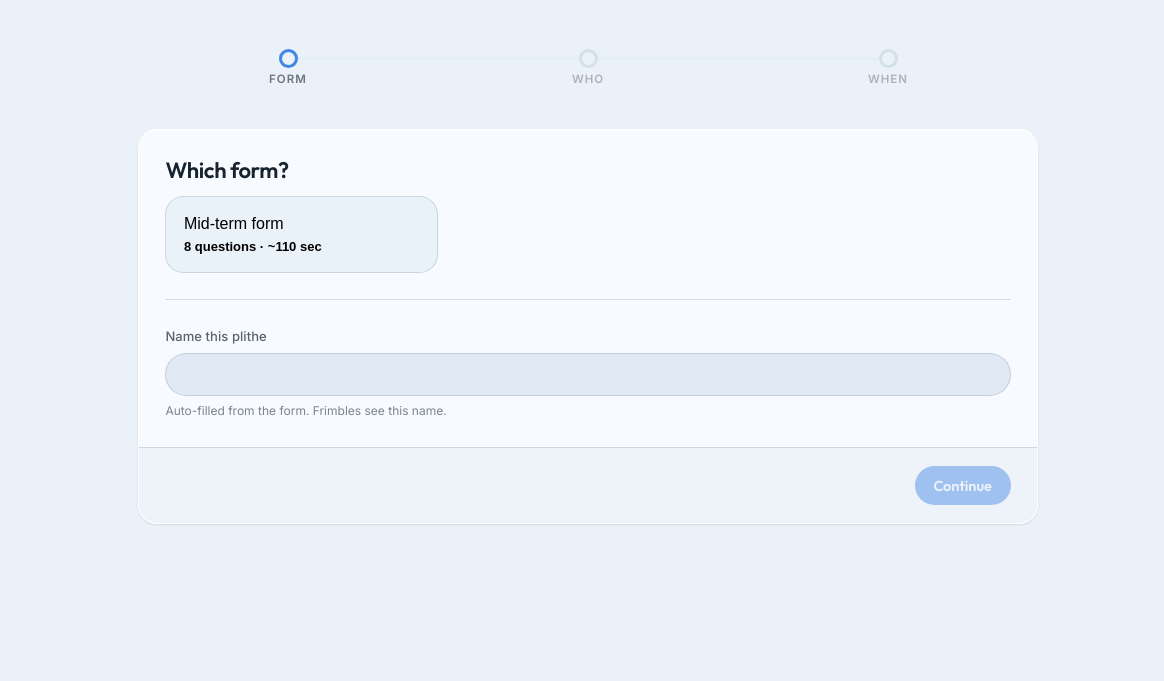
Test: step 2 — WHO GETS IN, which is not who is expected (DEC-037) › asks it as its OWN question, under its own heading
Click the button "Mid-term form 8 questions · ~110 sec".
click(234, 224)  # box [165,196,438,273]
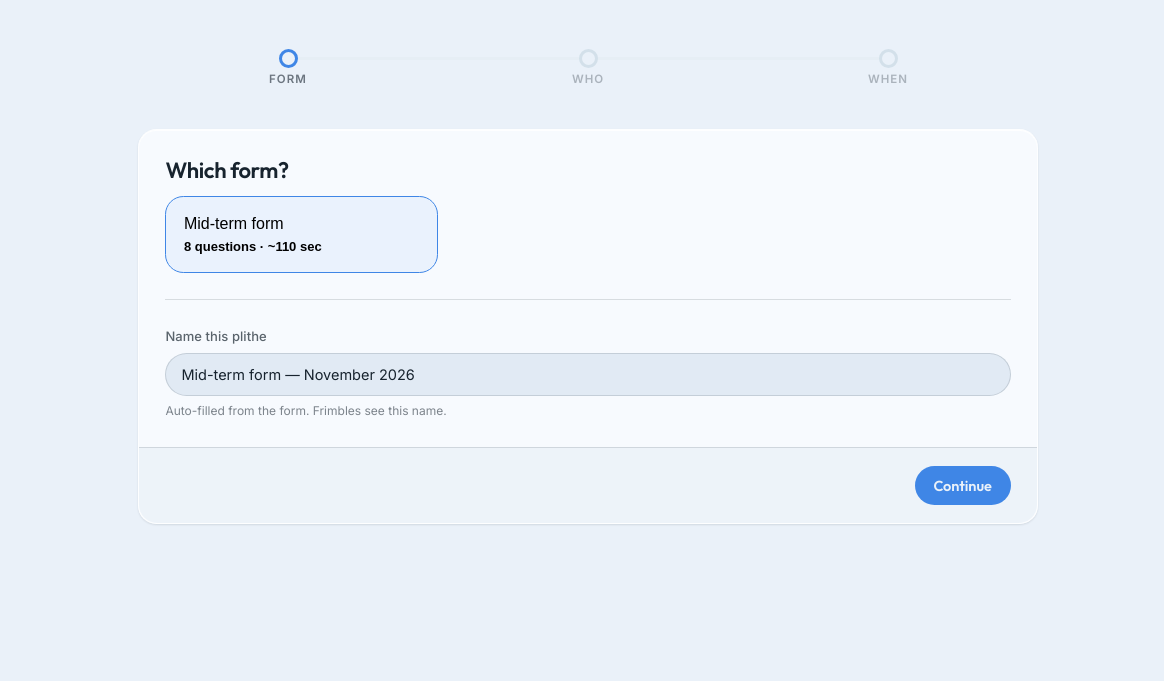
Click the button "Continue".
click(963, 485)  # box [915,466,1011,505]
(page scrolled)
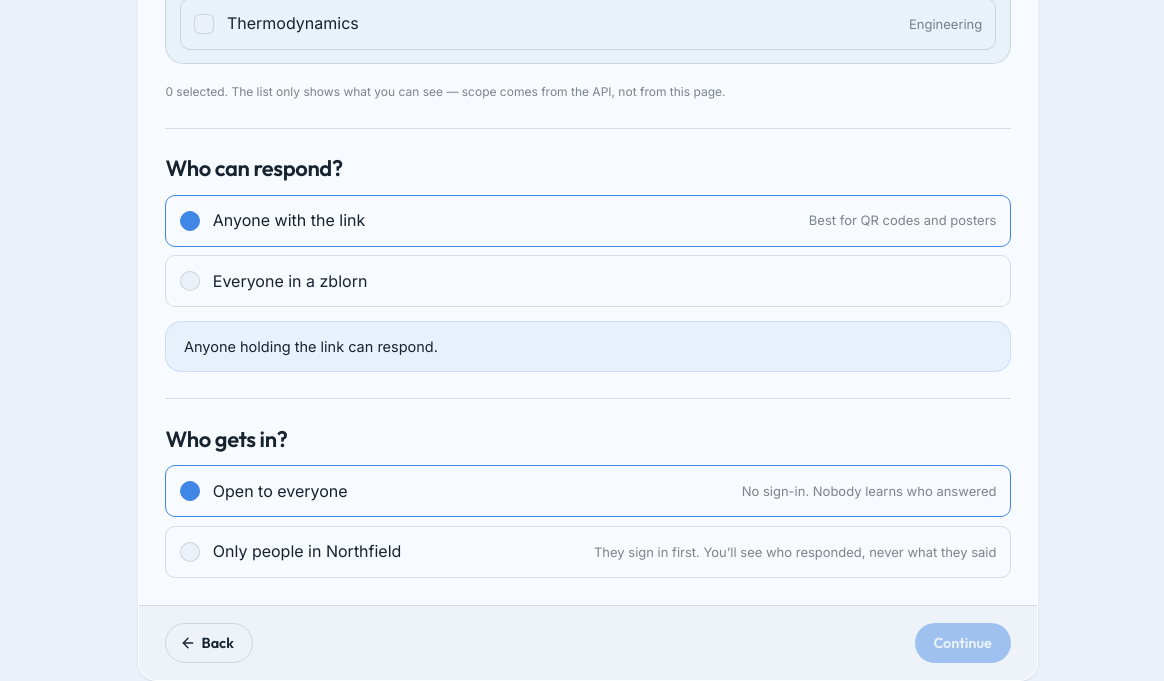
expect the heading "Who can respond?" is shown: met, box [165,154,343,182]
expect the heading "Who gets in?" is shown: met, box [165,425,287,453]
